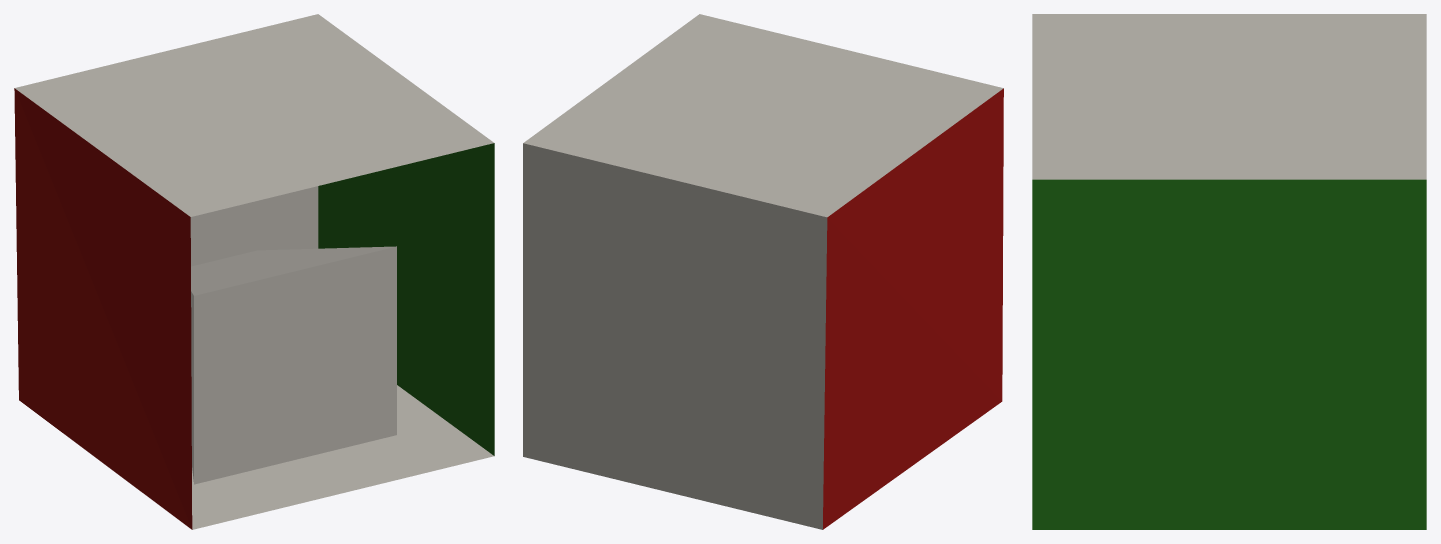
The model's file is trapezoid-box-with-walls.obj.
3 views of the same model, side by side, from view 1: azimuth 30°, elevation 25°; view 2: azimuth 150°, elevation 25°; view 3: azimuth 270°, elevation 25° (orthographic). The views are drawn at different scales.
Parts seen in each view (by area): view 1: CornellBox-Original; view 2: CornellBox-Original; view 3: CornellBox-Original.
Boxes of the visible parts, x1=… form: CornellBox-Original: x1=14, y1=14, x2=494, y2=529; CornellBox-Original: x1=523, y1=14, x2=1003, y2=529; CornellBox-Original: x1=1032, y1=14, x2=1426, y2=529.
Bounding box in the file's own units: 2.02 × 1.99 × 2.03.
